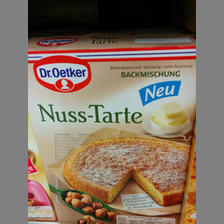cake: (28, 35, 196, 224)
